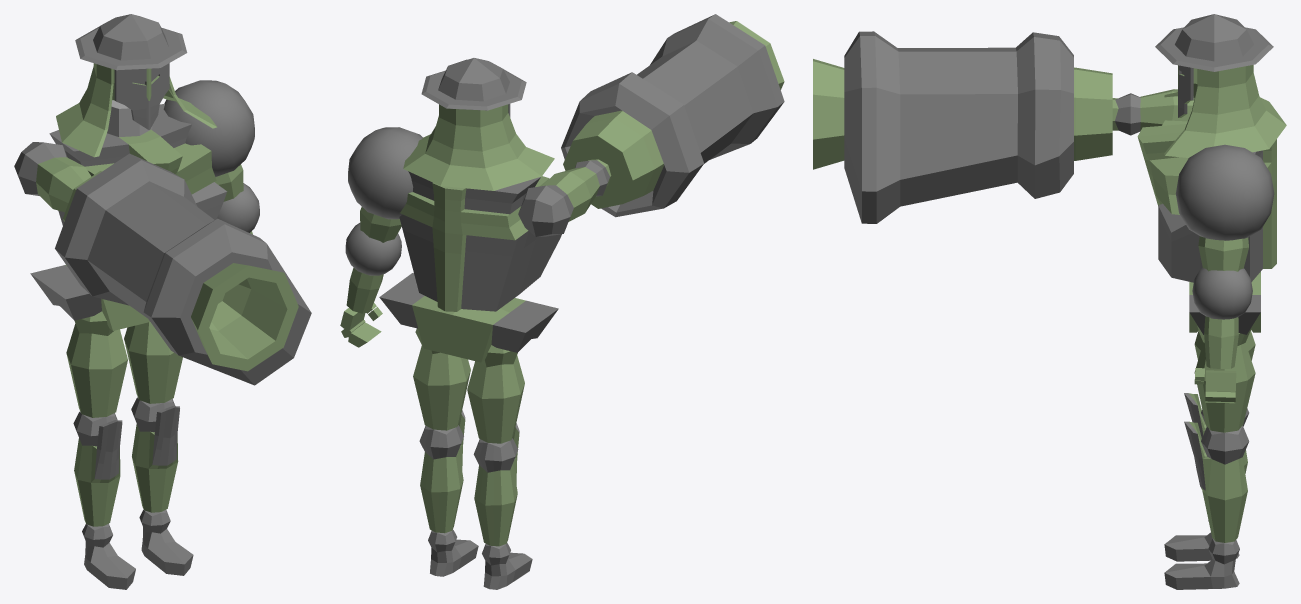
File: cannon knight combo.fbx
3 views of the same model, side by side, from view 1: azimuth 30°, elevation 25°; view 2: azimuth 150°, elevation 25°; view 3: azimuth 270°, elevation 25° (orthographic). The views are drawn at different scales.
Visible parts, largest first — view 1: CK_cannon, CK_robo_knight_head_1, CK_torso, CK_shoulder_joint_L, CK_CK_thigh_R, CK_calf_R, CK_CK_calf_L, CK_thigh_L, CK_shoulder_R, CK_hips, CK_CK_foot_R, CK_CK_foot_L (+3 smaller); view 2: CK_cannon, CK_torso, CK_robo_knight_head_1, CK_hips, CK_shoulder_joint_L, CK_CK_thigh_R, CK_calf_R, CK_CK_calf_L, CK_shoulder_R, CK_thigh_L, CK_elbow_joint_L, CK_CK_foot_L (+5 smaller); view 3: CK_cannon, CK_robo_knight_head_1, CK_shoulder_joint_L, CK_torso, CK_CK_calf_L, CK_thigh_L, CK_elbow_joint_L, CK_CK_foot_L, CK_elbow_L, CK_shoulder_L, CK_shoulder_R, CK_hips (+4 smaller).
Part boxes in pixels (<box>): CK_cannon: <box>55,153,311,385</box>; CK_robo_knight_head_1: <box>56,14,216,157</box>; CK_torso: <box>49,104,227,225</box>; CK_shoulder_joint_L: <box>163,80,254,176</box>; CK_CK_thigh_R: <box>66,311,127,417</box>; CK_calf_R: <box>73,411,122,526</box>; CK_CK_calf_L: <box>131,397,179,512</box>; CK_thigh_L: <box>124,322,182,403</box>; CK_shoulder_R: <box>14,142,91,212</box>; CK_hips: <box>30,265,149,330</box>; CK_CK_foot_R: <box>82,523,135,589</box>; CK_CK_foot_L: <box>139,510,193,575</box>; CK_cannon: <box>561,14,784,217</box>; CK_torso: <box>399,171,561,311</box>; CK_robo_knight_head_1: <box>403,58,554,190</box>; CK_hips: <box>379,273,558,362</box>; CK_shoulder_joint_L: <box>348,127,422,219</box>; CK_CK_thigh_R: <box>467,345,524,443</box>; CK_calf_R: <box>473,423,519,546</box>; CK_CK_calf_L: <box>419,410,465,533</box>; CK_shoulder_R: <box>518,167,599,236</box>; CK_thigh_L: <box>413,328,470,430</box>; CK_elbow_joint_L: <box>345,223,401,275</box>; CK_CK_foot_L: <box>428,529,478,576</box>; CK_cannon: <box>813,31,1112,223</box>; CK_robo_knight_head_1: <box>1155,14,1286,157</box>; CK_shoulder_joint_L: <box>1175,144,1274,240</box>; CK_torso: <box>1137,120,1276,282</box>; CK_CK_calf_L: <box>1184,421,1249,542</box>; CK_thigh_L: <box>1194,325,1255,432</box>; CK_elbow_joint_L: <box>1192,267,1252,319</box>; CK_CK_foot_L: <box>1164,538,1239,589</box>; CK_elbow_L: <box>1204,316,1238,369</box>; CK_shoulder_L: <box>1198,236,1248,271</box>; CK_shoulder_R: <box>1140,89,1194,130</box>; CK_hips: <box>1189,271,1260,334</box>.
Bounding box in the file's own units: 1553 × 2844 × 2193.
